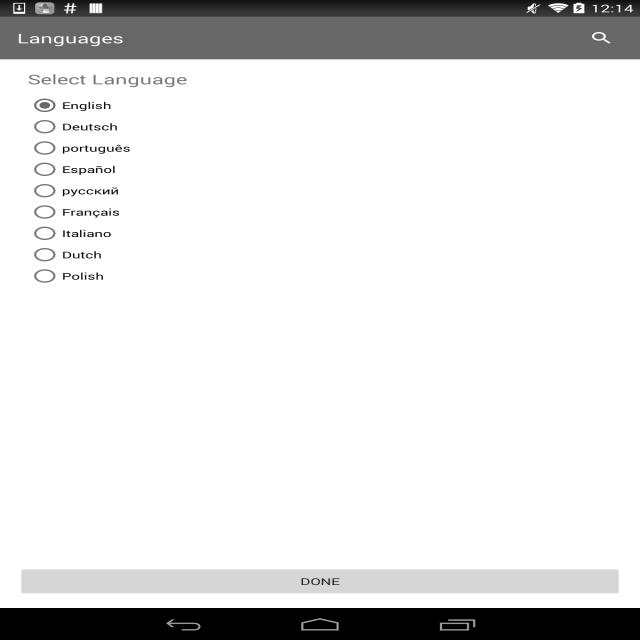Button: (17, 566, 623, 598)
RadioButton: (28, 137, 623, 159), (28, 201, 623, 223), (28, 265, 623, 287), (28, 95, 623, 116), (28, 116, 623, 137), (28, 159, 623, 180), (28, 180, 623, 201), (28, 223, 623, 244), (28, 244, 623, 265)
TextView: (28, 70, 623, 88), (17, 29, 124, 47), (572, 22, 631, 54)
